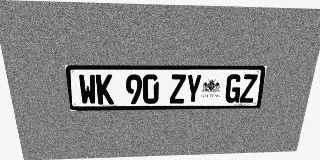0: (142, 74, 159, 104)
9: (126, 74, 142, 104)
G: (224, 74, 242, 103)
K: (95, 74, 114, 104)
W: (78, 74, 97, 105)
Y: (185, 74, 202, 103)
Z: (239, 74, 258, 103), (169, 74, 186, 104)
